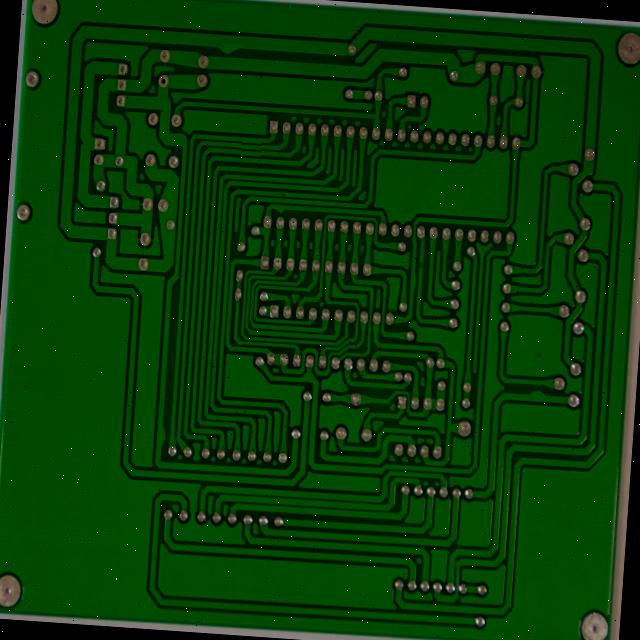spur: (111, 390, 130, 423), (518, 348, 544, 371), (390, 211, 403, 242), (240, 139, 262, 156)
